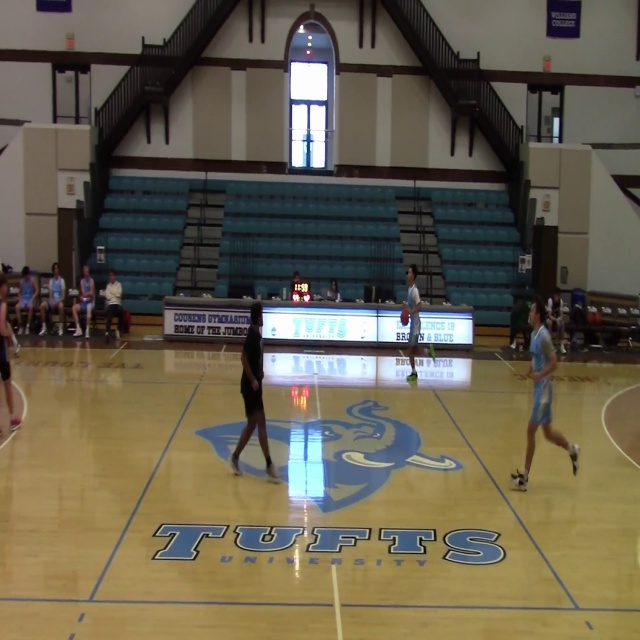Basketball: (400, 307, 409, 325)
